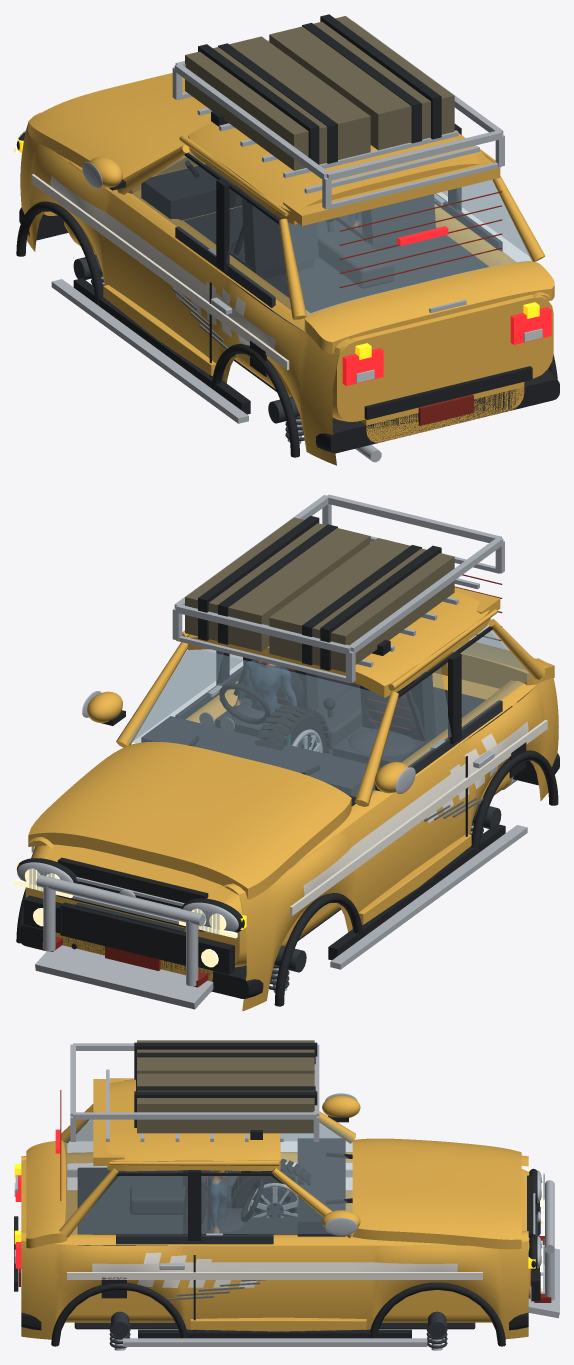
The model's file is dzo-hatch.glb.
3 views of the same model, one above another, from view 1: azimuth 30°, elevation 25°; view 2: azimuth 150°, elevation 25°; view 3: azimuth 270°, elevation 25° (orthographic). The views are drawn at different scales.
Parts seen in each view (by area): view 1: body_high, cosmetic_carrier (×2), body_low, cosmetic_basket, cosmetic_trail, cosmetic_stripe (×2), cosmetic_summit; view 2: body_high, body_low, cosmetic_carrier (×2), cosmetic_trail, cosmetic_basket, cosmetic_stripe (×2), wheel_high, cosmetic_summit; view 3: body_high, body_low, cosmetic_carrier (×2), cosmetic_trail, cosmetic_basket, cosmetic_stripe (×2), wheel_high, cosmetic_summit, rim_touring, rim_steel, damage_group.
Part boxes in pixels (x1,y1,x2,y2): body_high: (14,73,559,465); cosmetic_carrier (×2): (185,14,454,170); body_low: (17,112,551,461); cosmetic_basket: (172,21,504,209); cosmetic_trail: (51,279,248,423); cosmetic_stripe (×2): (50,176,275,349); cosmetic_summit: (173,267,249,345); body_high: (14,574,559,1011); body_low: (17,587,557,1009); cosmetic_carrier (×2): (185,515,454,672); cosmetic_trail: (35,825,527,1009); cosmetic_basket: (172,494,504,682); cosmetic_stripe (×2): (303,721,528,895); wheel_high: (254,704,330,753); cosmetic_summit: (420,733,499,822); body_high: (14,1078,549,1350); body_low: (14,1079,551,1345); cosmetic_carrier (×2): (134,1040,317,1133); cosmetic_trail: (123,1180,559,1346); cosmetic_basket: (70,1043,319,1141); cosmetic_stripe (×2): (92,1262,457,1271); wheel_high: (231,1159,310,1215); cosmetic_summit: (137,1252,262,1287); rim_touring: (248,1183,296,1217); rim_steel: (252,1184,297,1216); damage_group: (155,1280,266,1301).
Size of what is drawn, in the model's own units: 2.11 by 1.93 by 3.88.
